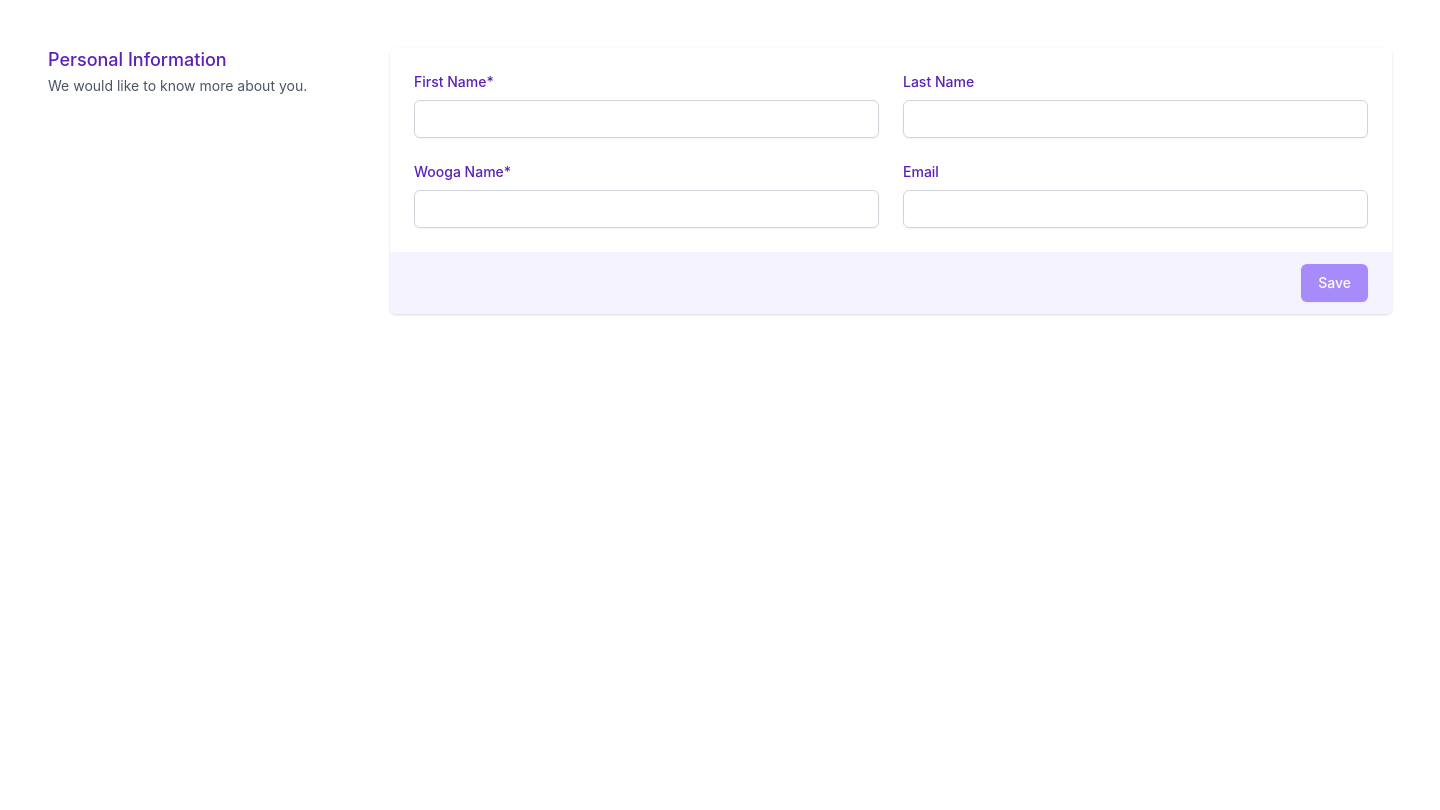
Form returns an object with the same keys with the formField object
Check: the button has attribute disabled, box [1301, 264, 1368, 302]
In the field with id "woogaName": (646, 209) [414, 190, 879, 228], type "wooga.name"
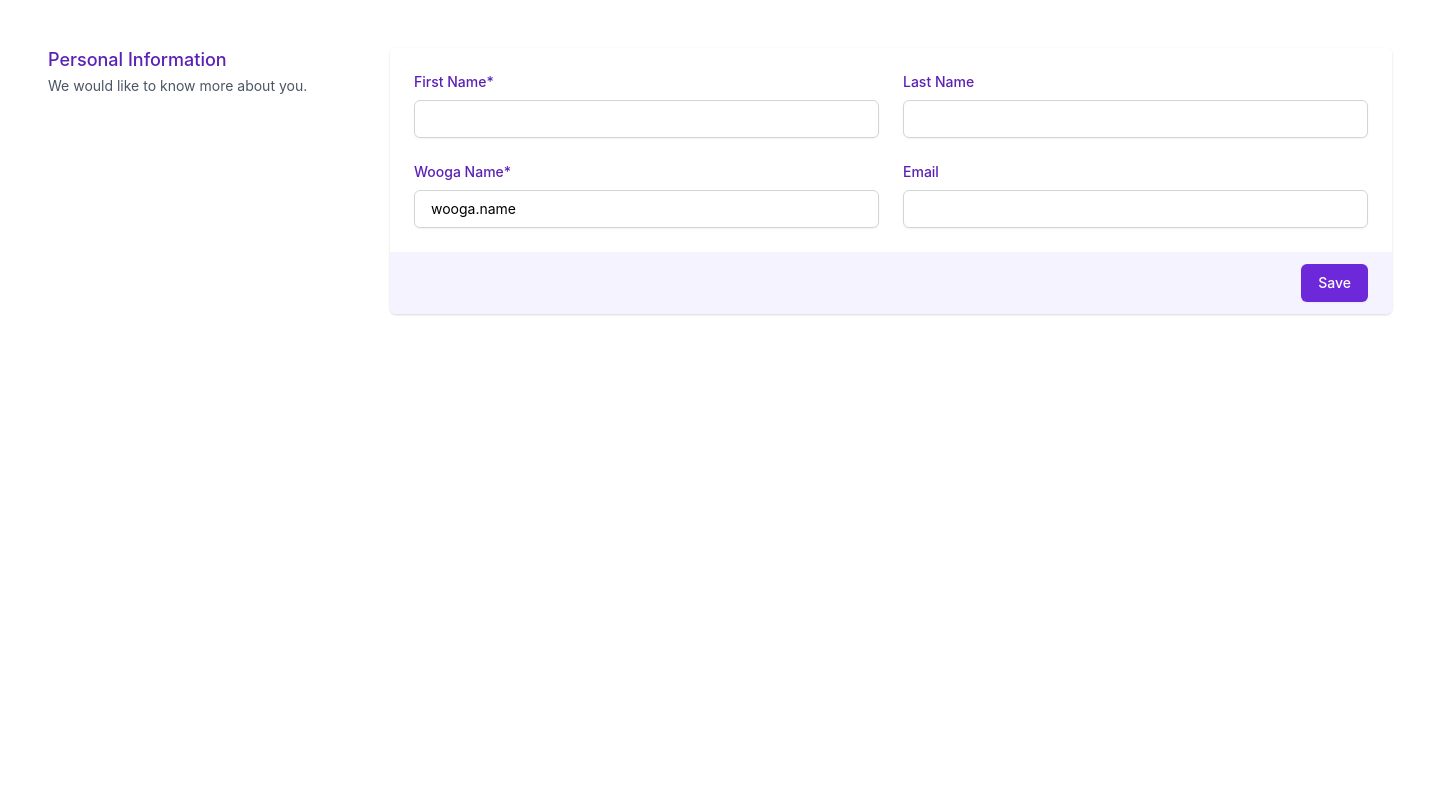
In the field with id "firstName": (646, 119) [414, 100, 879, 138], type "wooga"
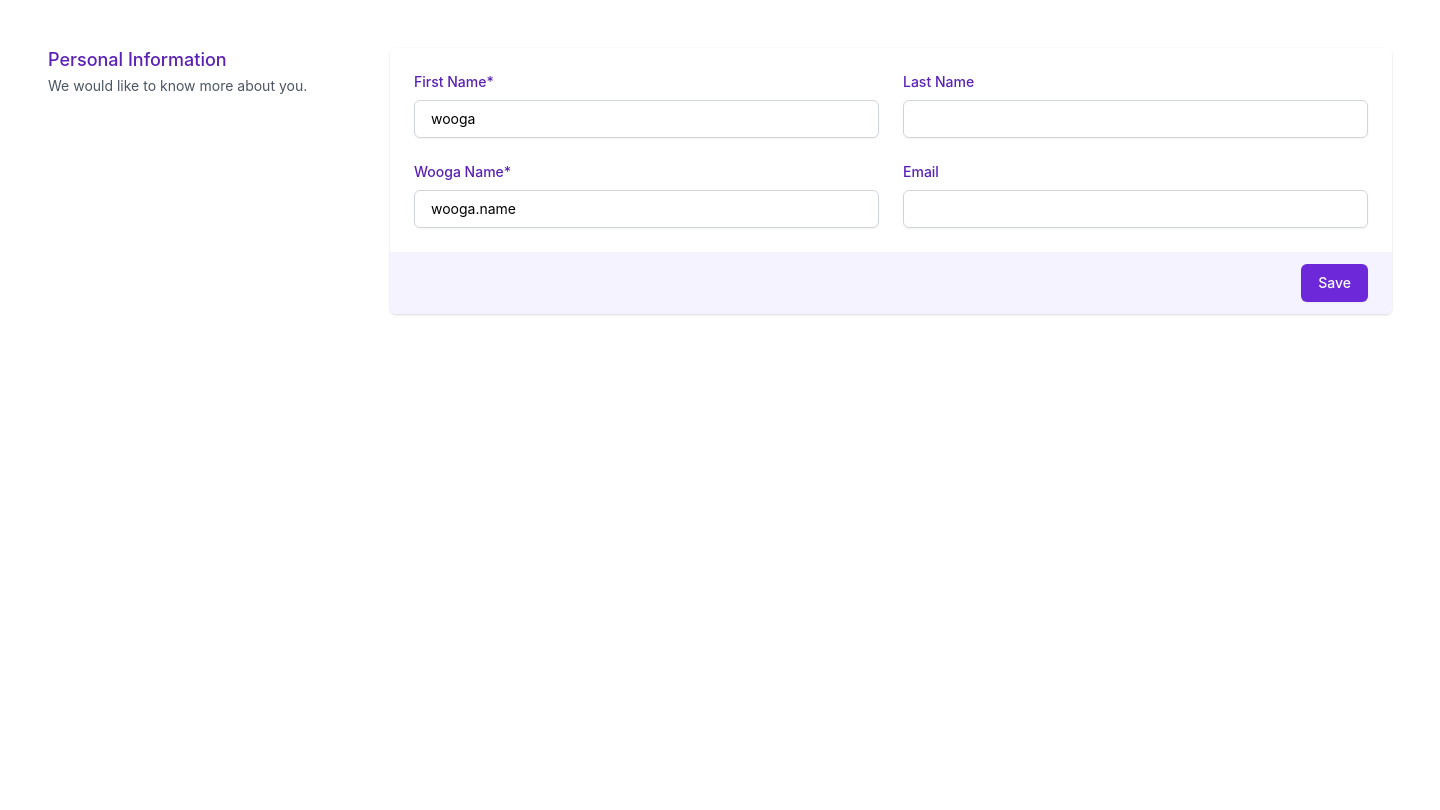
Check: the button does not have attribute disabled
Click the button: (1335, 283) [1301, 264, 1368, 302]
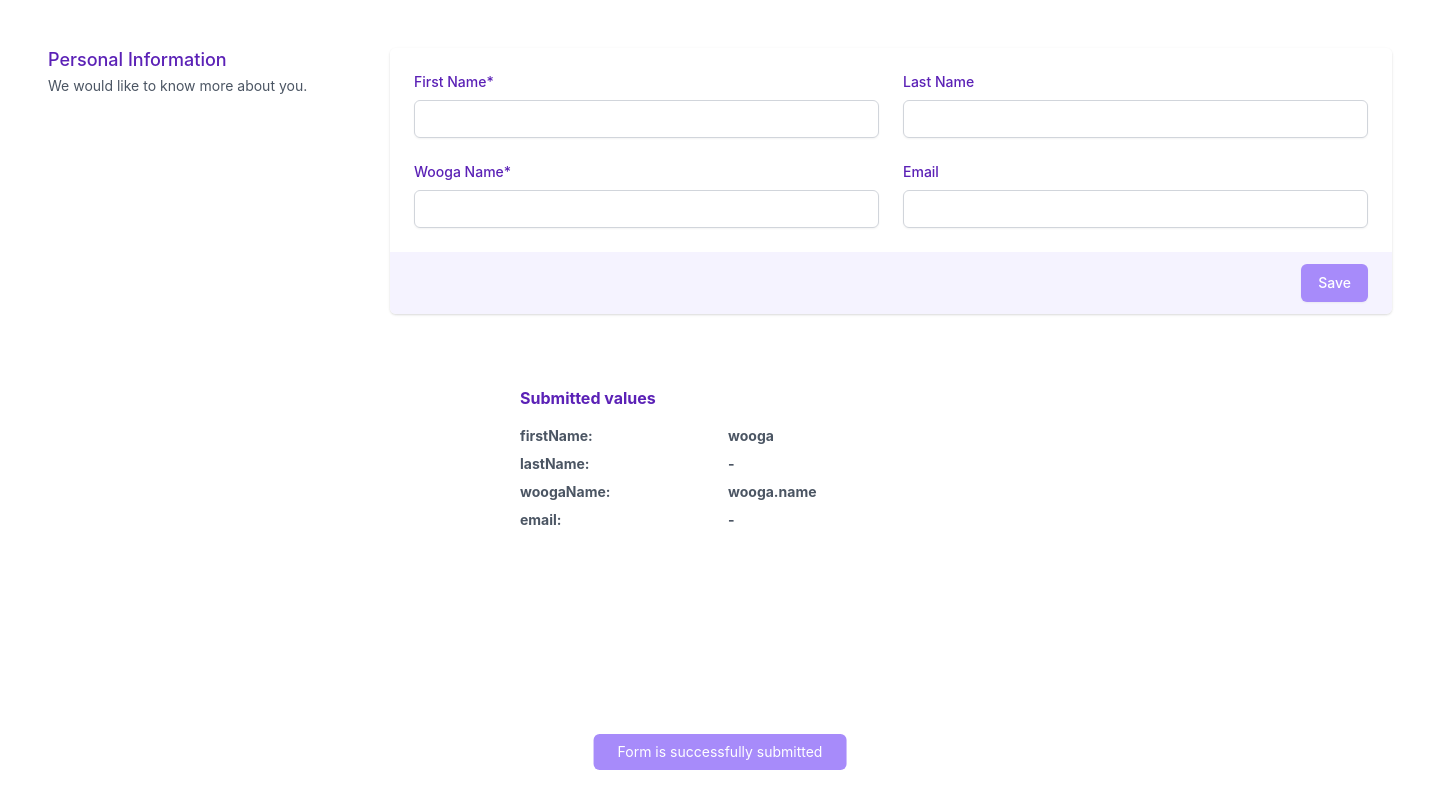
Check: the element with test id "firstName" is shown, box [520, 427, 774, 444]
Check: the element with test id "lastName" is shown, box [520, 455, 735, 472]
Check: the element with test id "woogaName" is shown, box [520, 483, 816, 500]
